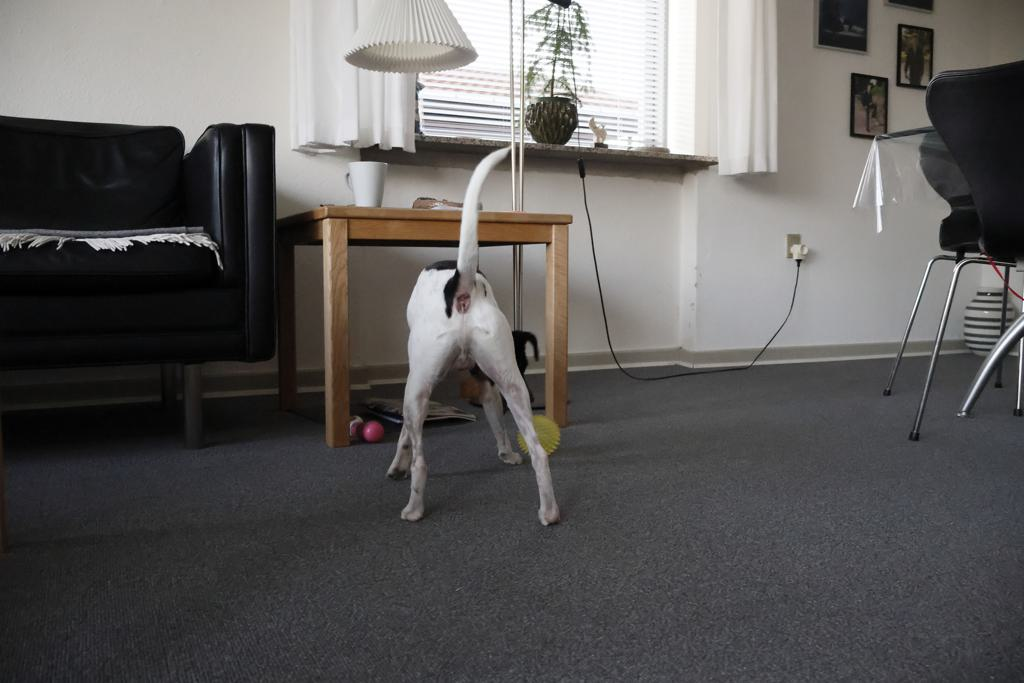Dog: (365, 121, 576, 539)
